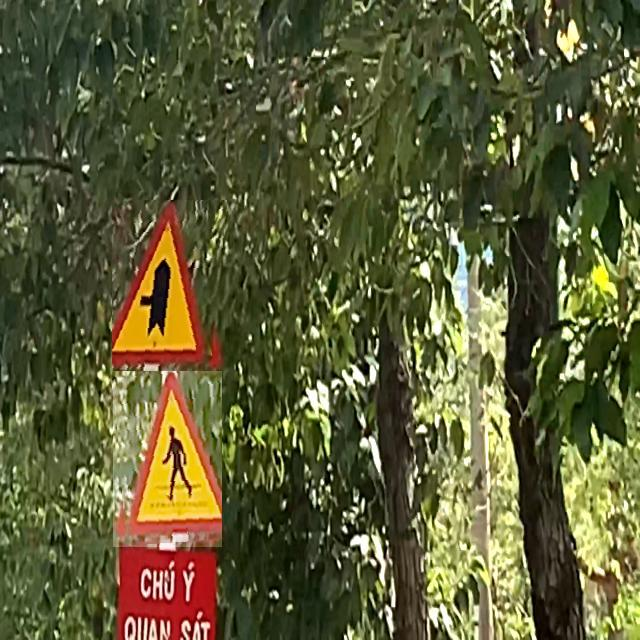W-207c: (112, 200, 228, 376)
W-224: (113, 372, 222, 548)
